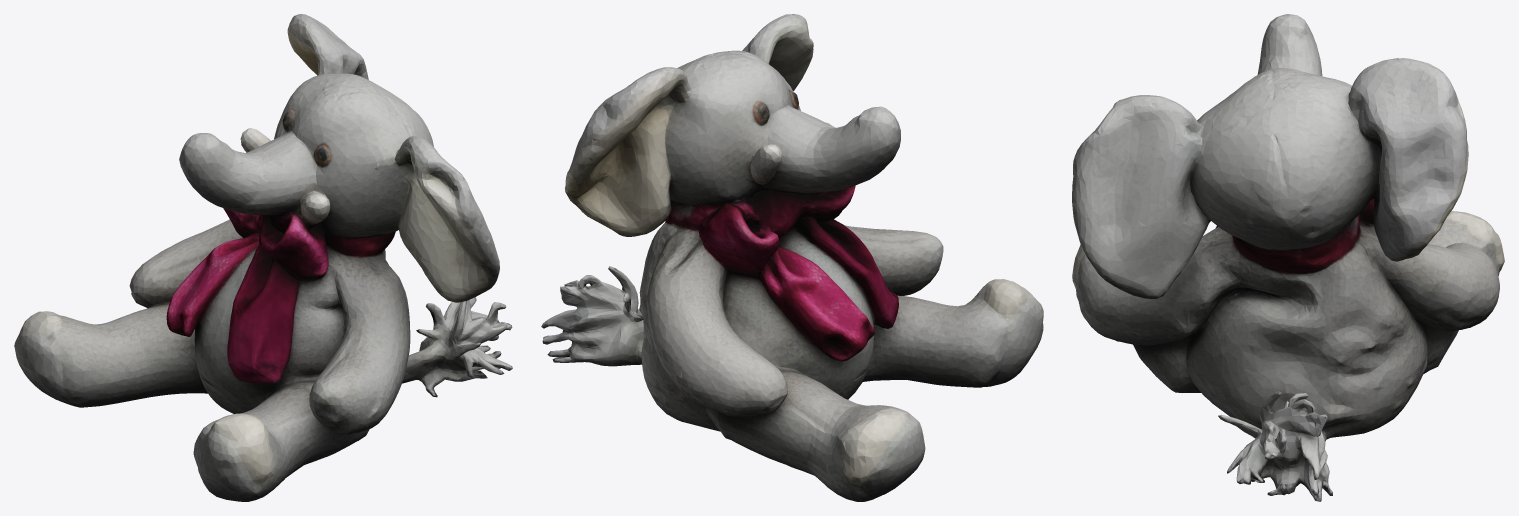
3 renders of one model, left to right at view 1: azimuth 30°, elevation 25°; view 2: azimuth 150°, elevation 25°; view 3: azimuth 270°, elevation 25°, orthographic. The views are drawn at different scales.
Parts seen in each view (by area): view 1: world; view 2: world; view 3: world.
Boxes of the visible parts, x1,y1,x2,y2 form: world: (14,14,512,501); world: (541,14,1043,501); world: (1072,14,1504,501).
Bounding box in the file's own units: 1 × 0.7735 × 0.8264.
Materials: 1 (1 with a texture image).
